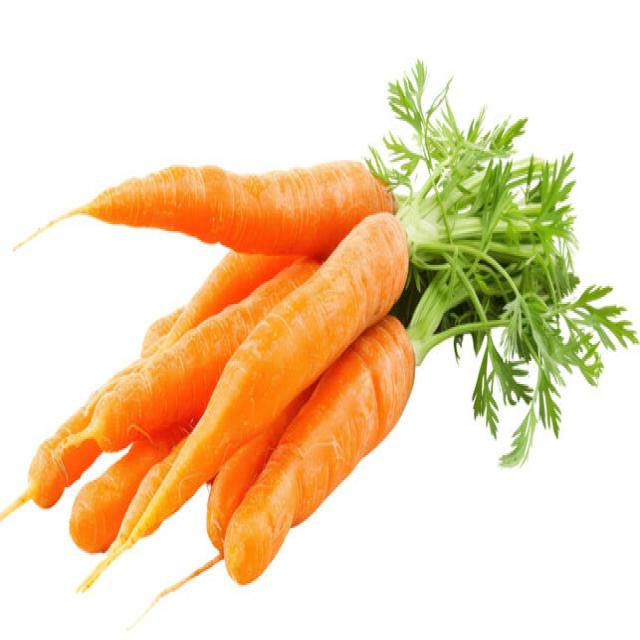Carrot: (0, 248, 320, 526), (221, 311, 415, 585), (11, 156, 397, 258), (140, 249, 304, 357), (68, 428, 190, 554)
